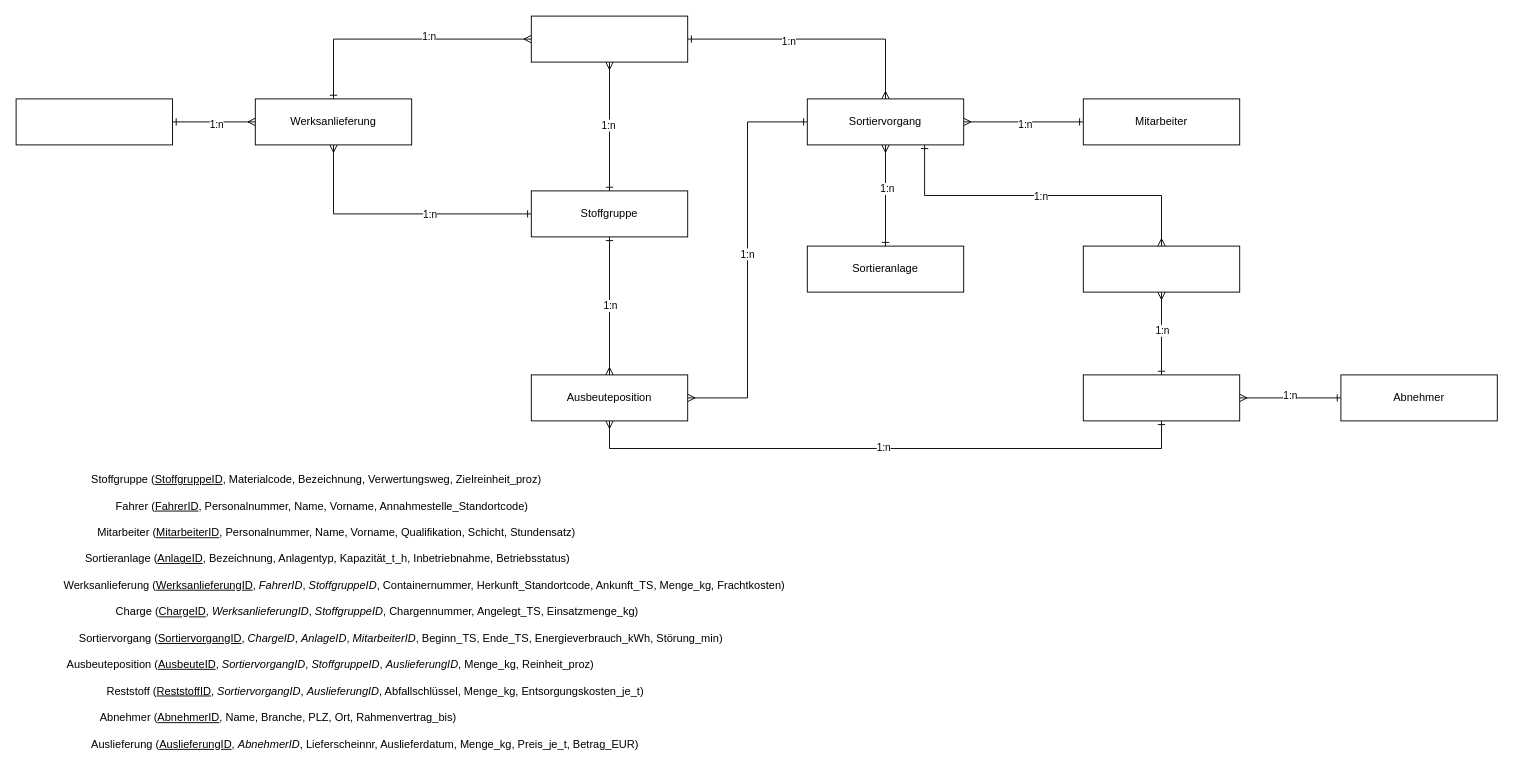
The diagram is 1513 pixels wide and 781 high, and some of its shapes have lost their labels. Here are the shapes that lost their labels. From the top down, the centre of each, then its label:
(x=609, y=38): Charge
(x=93, y=121): Fahrer
(x=1161, y=268): Reststoff
(x=1161, y=397): Auslieferung
